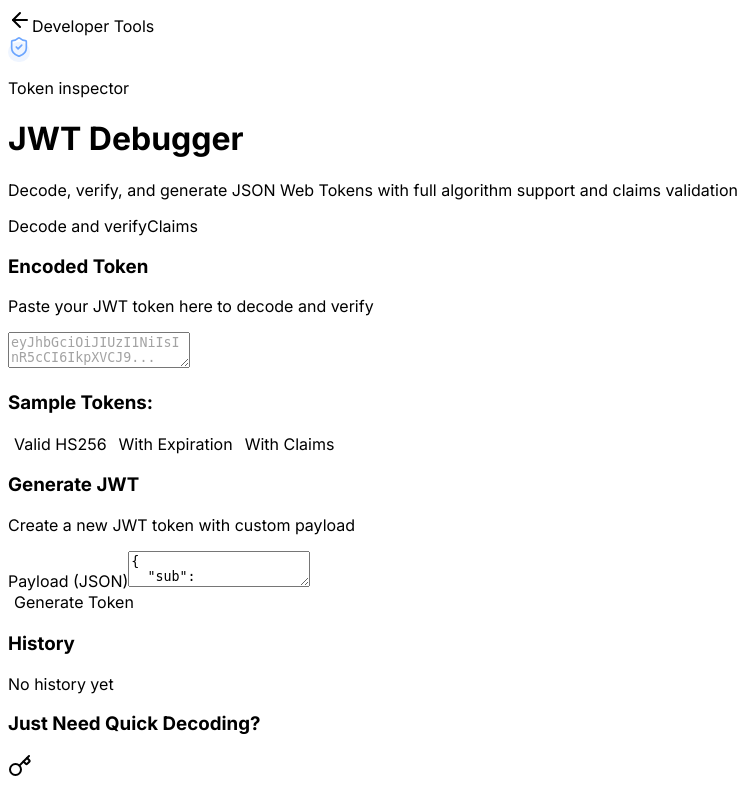
Test: JWTDebuggerPage › Signature Verification › shows algorithm selector in verify section
// Load a valid token first
Click the button "Valid HS256". click: (60, 444)
box: [8, 433, 113, 455]
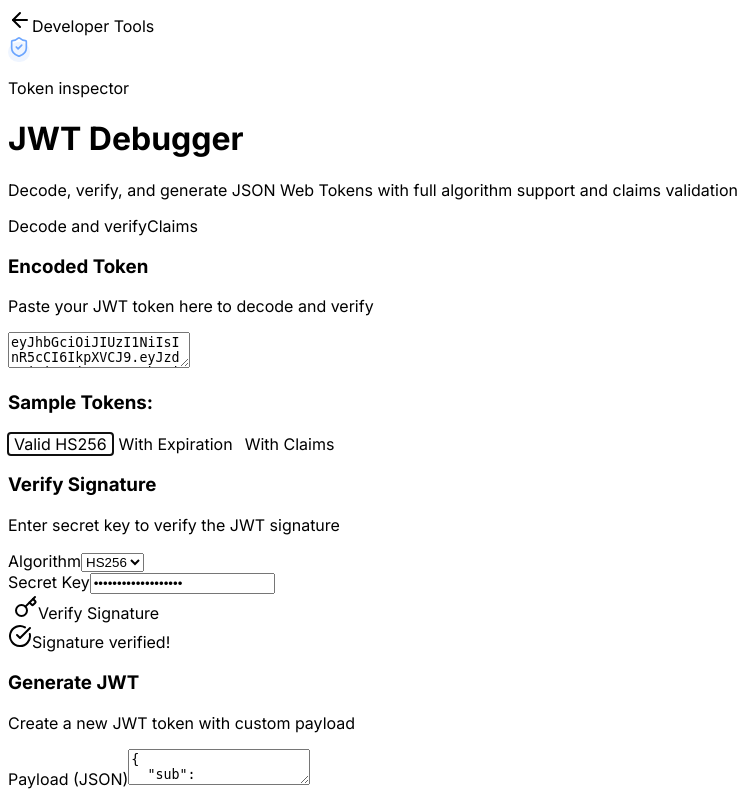
expect the dropdown labelled "Algorithm" shows "HS256": met, box [81, 553, 144, 572]
